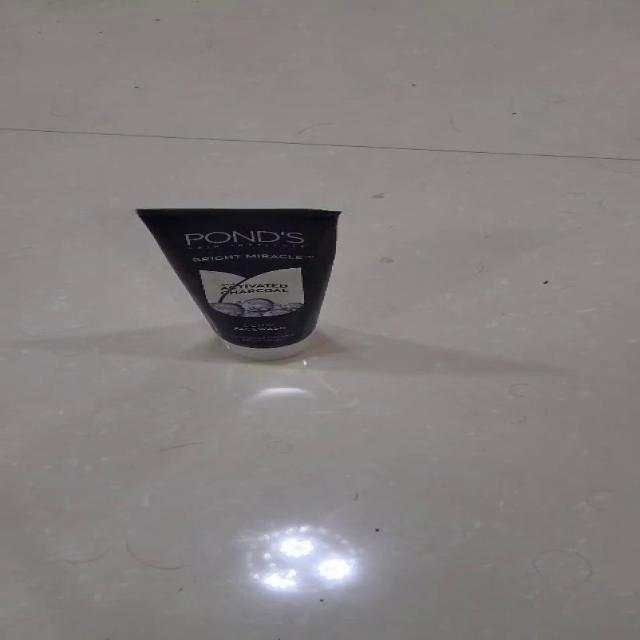plastic: (134, 206, 341, 360)
